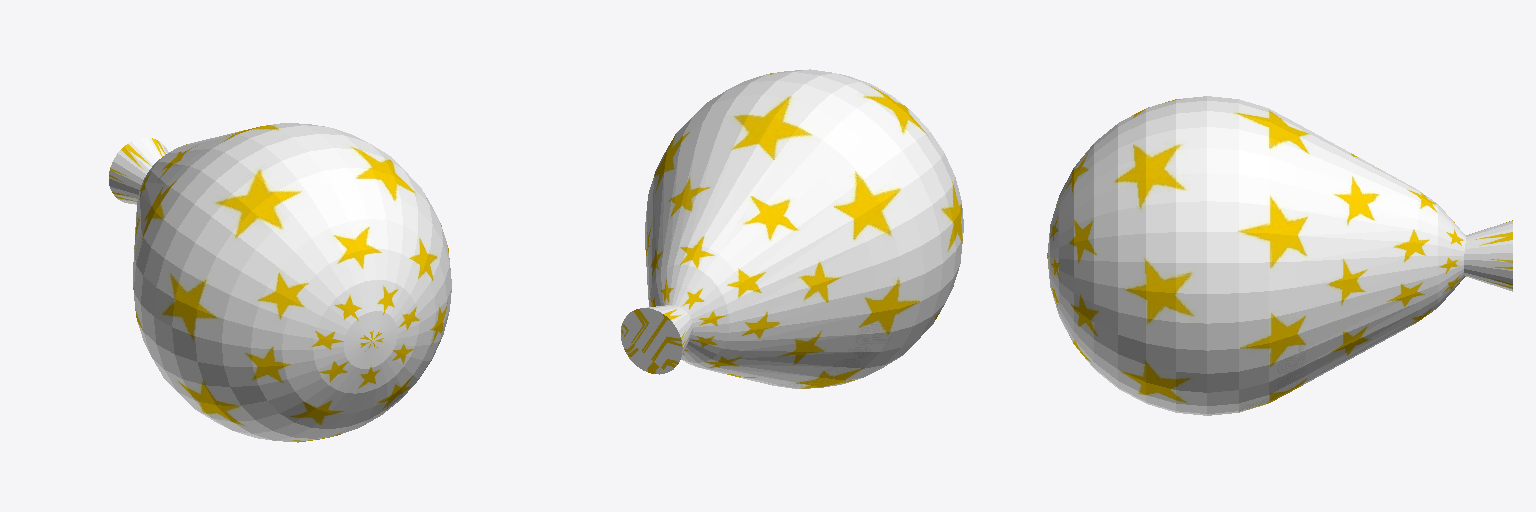
The picture shows the model from 3 angles: view 1: azimuth 30°, elevation 25°; view 2: azimuth 150°, elevation 25°; view 3: azimuth 270°, elevation 25°; orthographic projection.
Parts seen in each view (by area): view 1: Sphere001; view 2: Sphere001; view 3: Sphere001.
Part boxes in pixels (left/top/right/bottom): Sphere001: left=109, top=123, right=451, bottom=442; Sphere001: left=621, top=69, right=963, bottom=388; Sphere001: left=1047, top=96, right=1512, bottom=415.
Bounding box in the file's own units: 10.54 × 10.54 × 15.33.
1 materials, 1 textured.